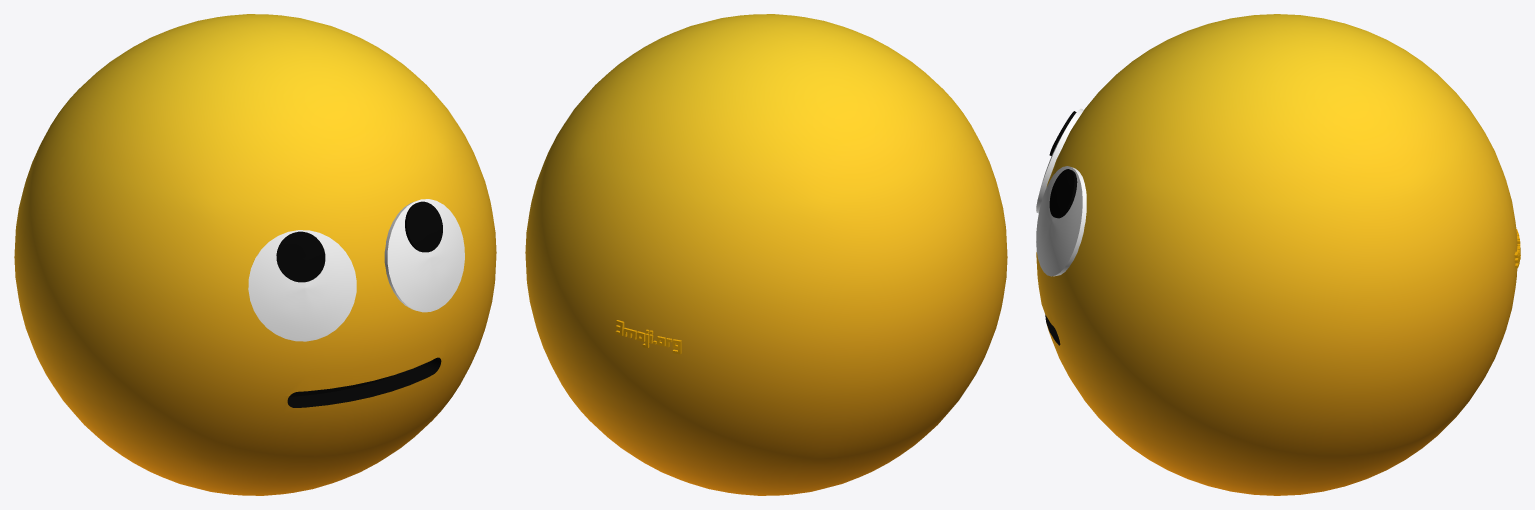
File: face_with_rolling_eyes.fbx
3 renders of one model, left to right at view 1: azimuth 30°, elevation 25°; view 2: azimuth 150°, elevation 25°; view 3: azimuth 270°, elevation 25°, orthographic.
Visible parts, largest first — view 1: Face with Rolling Eyes; view 2: Face with Rolling Eyes; view 3: Face with Rolling Eyes.
Part boxes in pixels (x1,y1,x2,y2): Face with Rolling Eyes: (14, 14, 496, 495); Face with Rolling Eyes: (525, 14, 1007, 495); Face with Rolling Eyes: (1036, 14, 1520, 495).
Size of the model in its own units: 169 by 169 by 170.
1 material, 1 textured.
